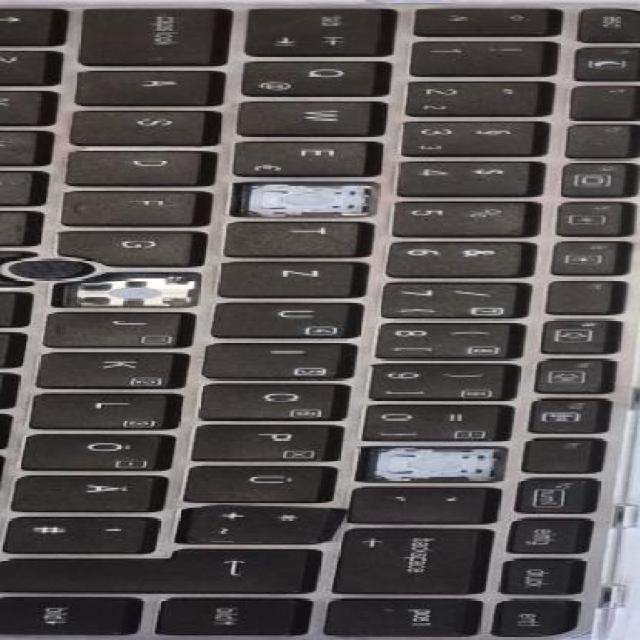Keyboard problems: (229, 170, 386, 222), (52, 262, 203, 314), (355, 436, 508, 485)
